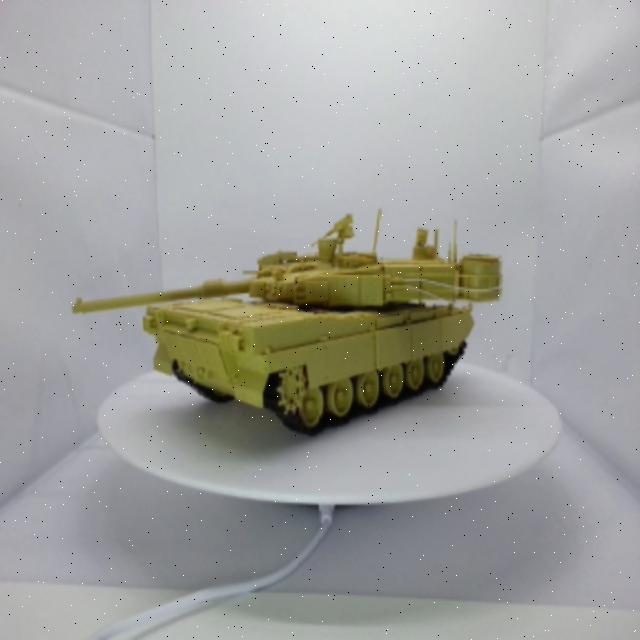korea tank: (70, 187, 508, 439)
